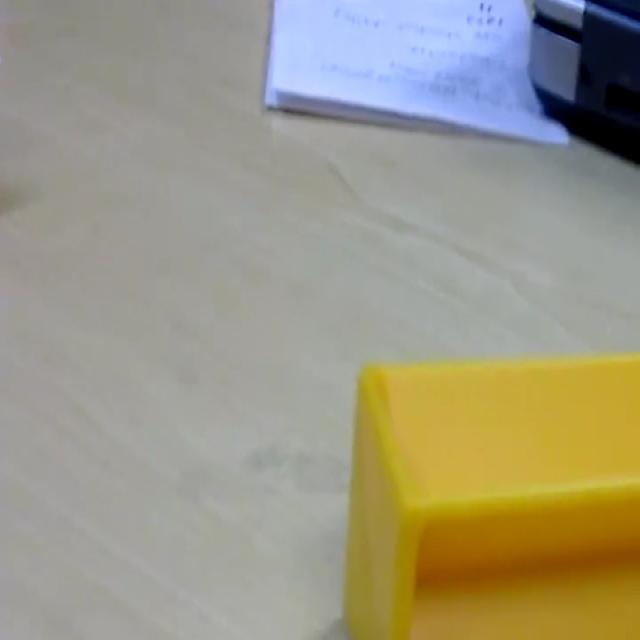yellow_block: (342, 351, 639, 636)
